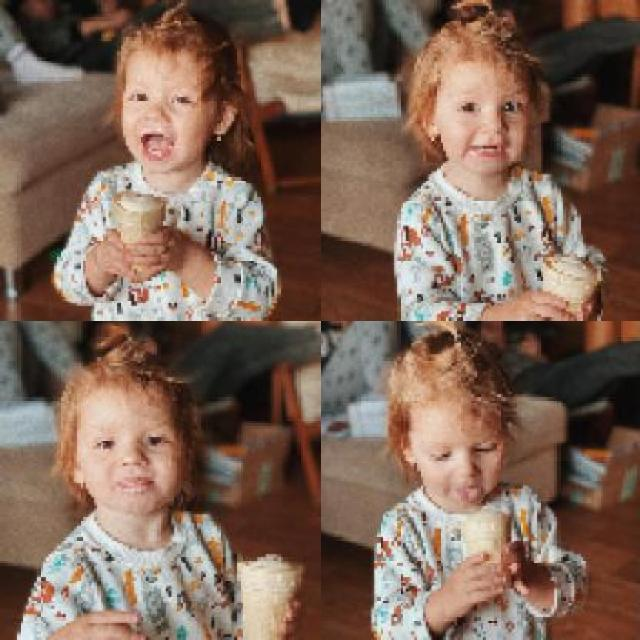child: (11, 326, 302, 637), (51, 9, 283, 322), (368, 326, 592, 637), (390, 2, 610, 318)
